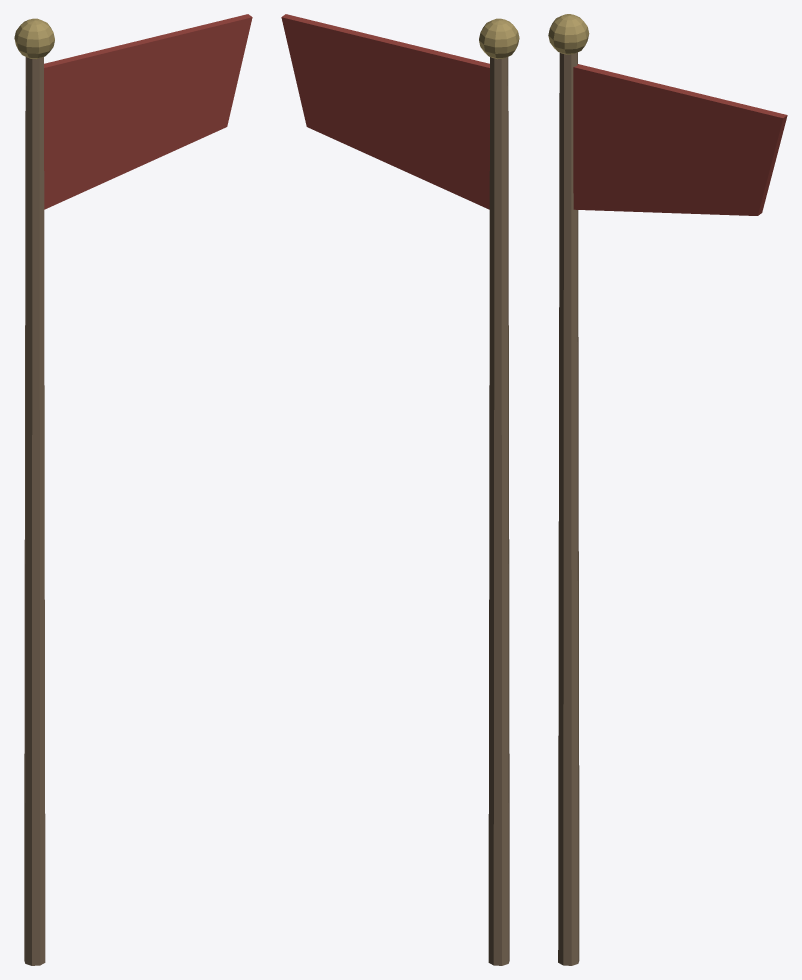
File: LegendBanner.fbx
3 views of the same model, side by side, from view 1: azimuth 30°, elevation 25°; view 2: azimuth 150°, elevation 25°; view 3: azimuth 330°, elevation 25° (orthographic).
Parts seen in each view (by area): view 1: LegendBanner; view 2: LegendBanner; view 3: LegendBanner.
Boxes of the visible parts, bbox=[...] form: LegendBanner: bbox=[14, 14, 252, 965]; LegendBanner: bbox=[281, 14, 519, 965]; LegendBanner: bbox=[548, 14, 787, 965].
Bounding box in the file's own units: 18.4 × 70.9 × 2.66.
